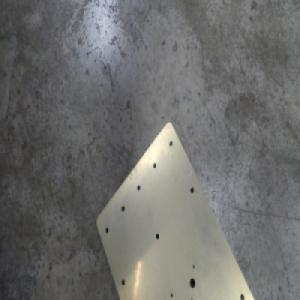MetalSheet: (94, 116, 256, 300)
